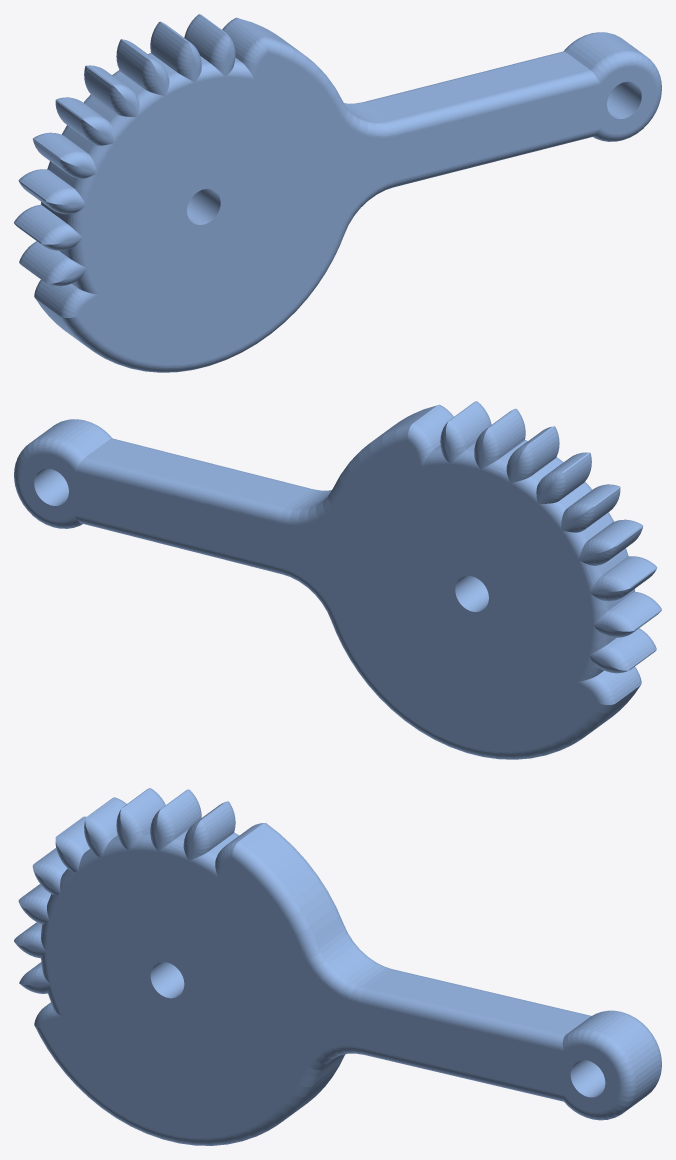
Rendered from gripper_outer_link.dae.
3 renders of one model, top to bottom at view 1: azimuth 30°, elevation 25°; view 2: azimuth 150°, elevation 25°; view 3: azimuth 330°, elevation 25°, orthographic.
Parts seen in each view (by area): view 1: Untitled_001, Untitled; view 2: Untitled_001, Untitled; view 3: Untitled_001, Untitled.
Boxes of the visible parts, left/top/right/bottom form: Untitled_001: left=14, top=14, right=661, bottom=372; Untitled: left=172, top=32, right=660, bottom=240; Untitled_001: left=14, top=401, right=661, bottom=759; Untitled: left=15, top=419, right=503, bottom=627; Untitled_001: left=14, top=788, right=661, bottom=1145; Untitled: left=136, top=946, right=660, bottom=1119.
Size of the model in its own units: 0.059 by 0.006 by 0.03.
